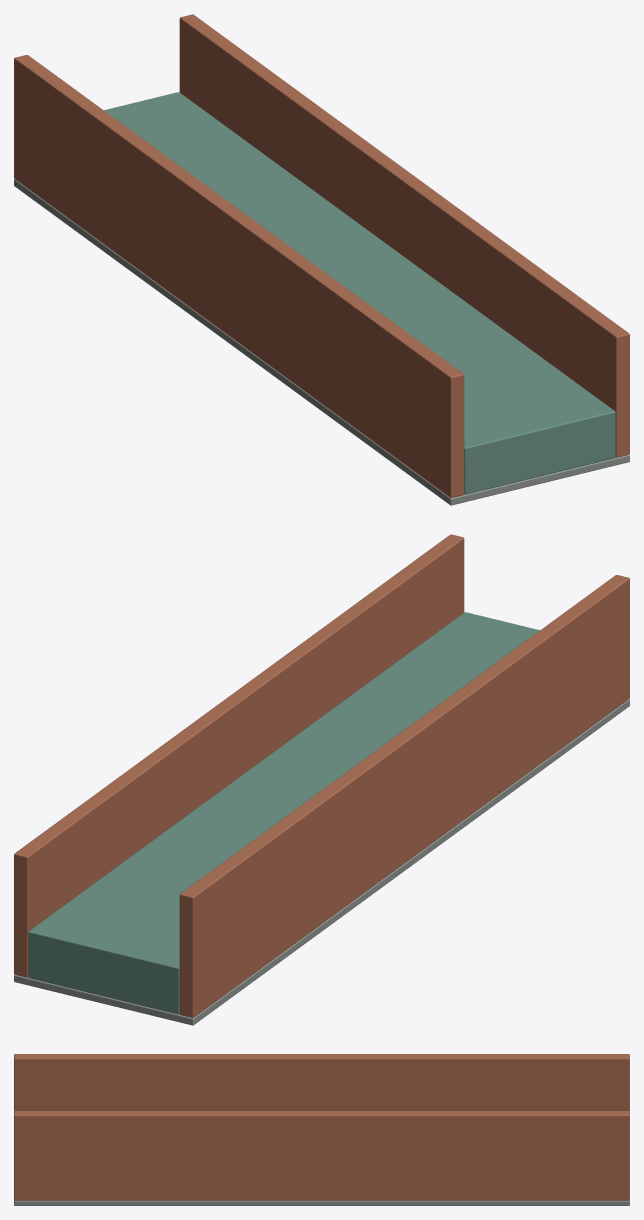
Rendered from canal-boats-and-lock-operations-canal-boats-and-lock-o-09c02e87__31617.glb.
3 renders of one model, top to bottom at view 1: azimuth 30°, elevation 25°; view 2: azimuth 150°, elevation 25°; view 3: azimuth 270°, elevation 25°, orthographic. The views are drawn at different scales.
Visible parts, largest first — view 1: canal-boats-and-lock-operations-narrow-lock-chamber; view 2: canal-boats-and-lock-operations-narrow-lock-chamber; view 3: canal-boats-and-lock-operations-narrow-lock-chamber.
Part boxes in pixels (x1,y1,x2,y2): canal-boats-and-lock-operations-narrow-lock-chamber: (14, 14, 629, 505); canal-boats-and-lock-operations-narrow-lock-chamber: (14, 534, 629, 1025); canal-boats-and-lock-operations-narrow-lock-chamber: (14, 1054, 629, 1205).
Bounding box in the file's own units: 3.8 × 2.6 × 16.
